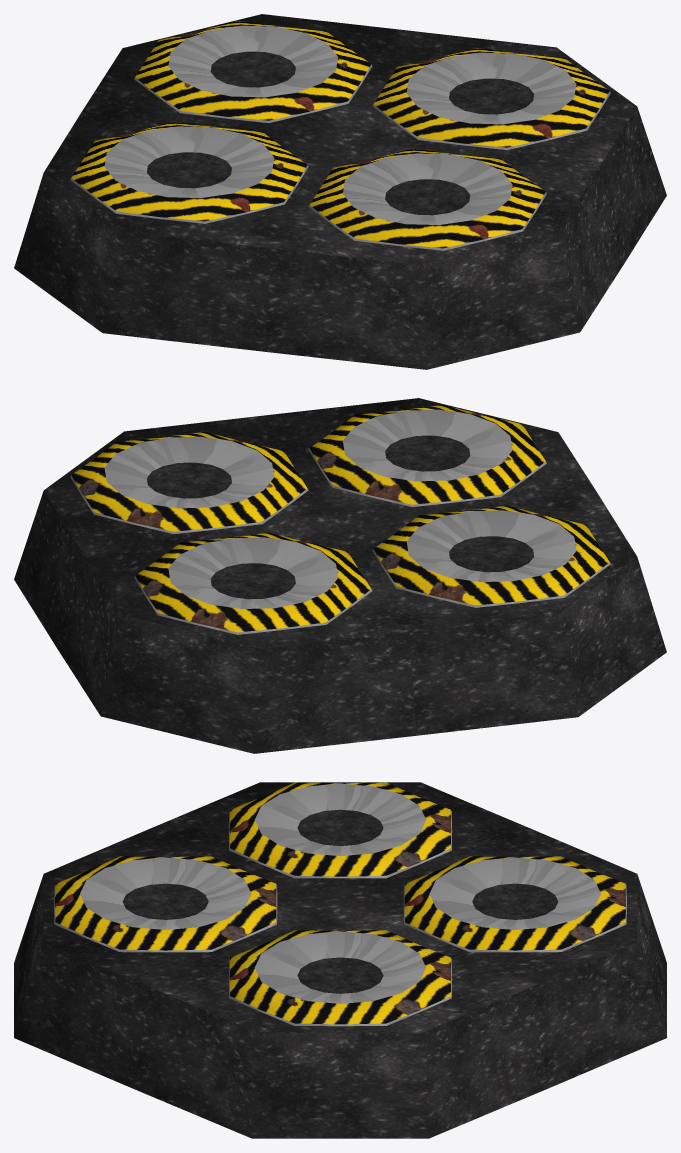
Rendered from launcherSmallExt.obj.
The picture shows the model from 3 angles, top to bottom: view 1: azimuth 30°, elevation 25°; view 2: azimuth 150°, elevation 25°; view 3: azimuth 270°, elevation 25°; orthographic projection.
Visible parts, largest first — view 1: mountS.003_Cylinder.018; view 2: mountS.003_Cylinder.018; view 3: mountS.003_Cylinder.018.
Boxes of the visible parts, x1,y1,x2,y2 form: mountS.003_Cylinder.018: [14, 14, 666, 369]; mountS.003_Cylinder.018: [14, 398, 666, 753]; mountS.003_Cylinder.018: [14, 782, 666, 1138].
Bounding box in the file's own units: 0.6974 × 0.1258 × 0.6974.
1 material, 1 textured.
